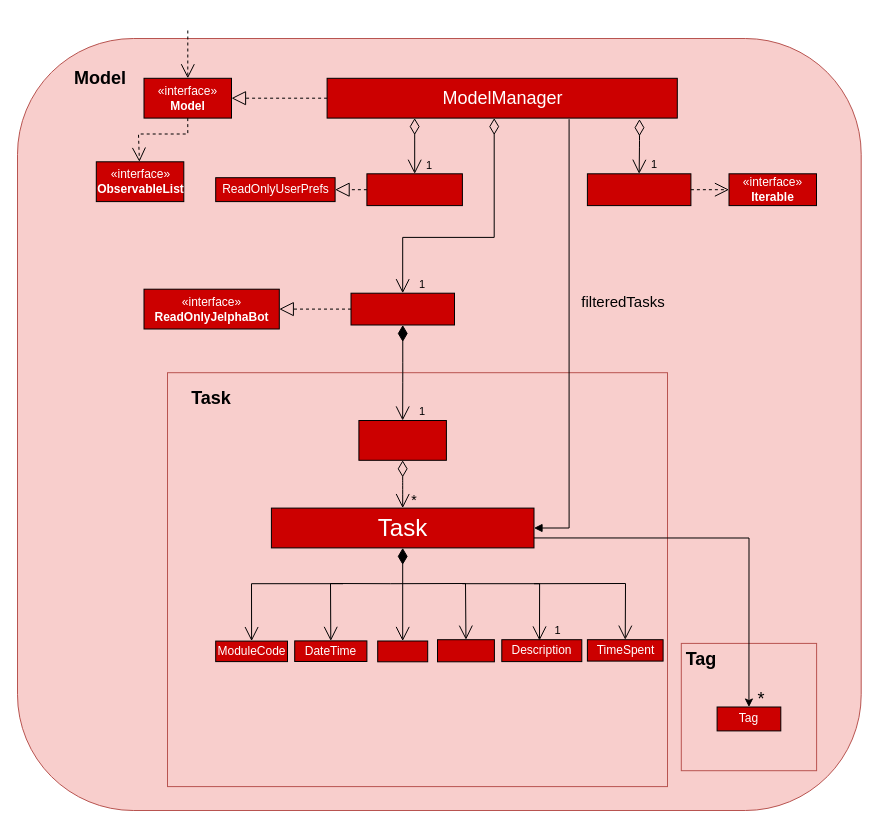
The diagram is 879 pixels wide and 828 high, and some of its shapes have lost their labels. Each missing label, with the centre of its shape:
JelphaBot: the point at 402,308
Priority: the point at 465,650
ProductivityList: the point at 638,189
Status: the point at 402,651
UniqueTaskList: the point at 402,440
UserPrefs: the point at 414,189
